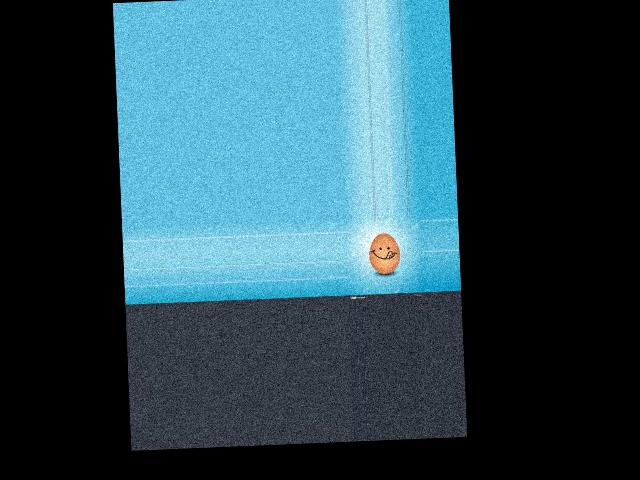egg: (368, 232, 401, 274)
